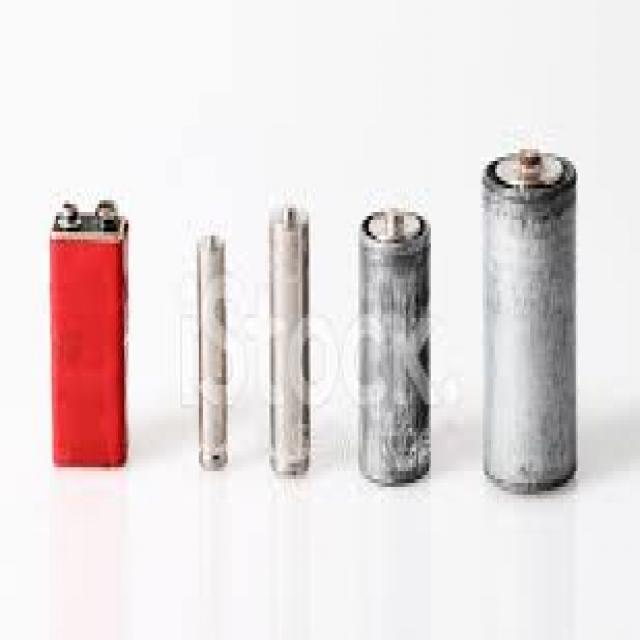non-organic waste: (481, 143, 577, 493), (52, 200, 129, 471), (357, 204, 431, 485), (268, 204, 312, 478), (198, 232, 229, 470)
